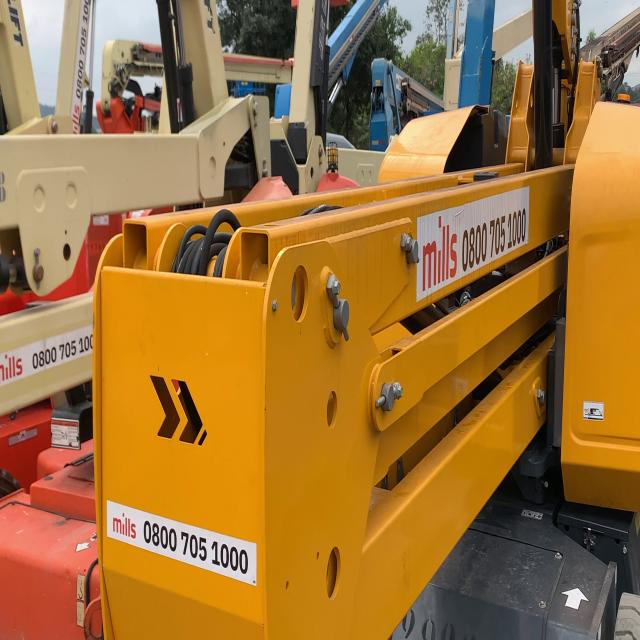Adesivo Longo: (415, 182, 531, 307), (105, 497, 258, 588)
